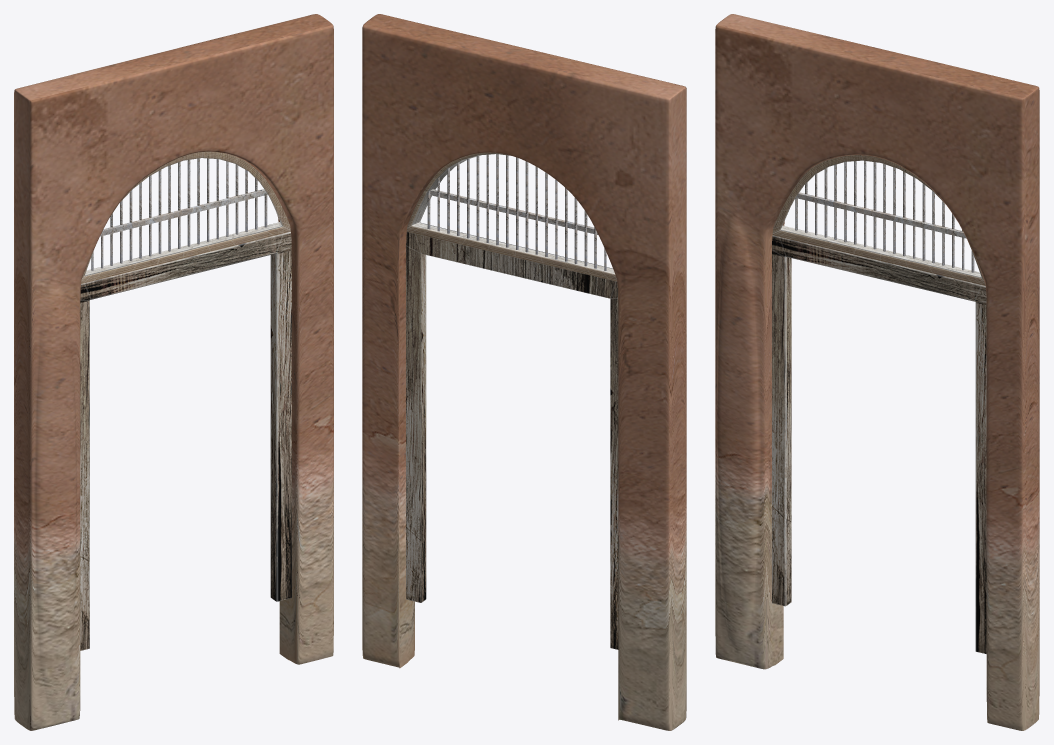
File: Marco.obj
3 renders of one model, left to right at view 1: azimuth 30°, elevation 25°; view 2: azimuth 150°, elevation 25°; view 3: azimuth 330°, elevation 25°, orthographic.
Parts seen in each view (by area): view 1: pCube3_Untitled; view 2: pCube3_Untitled; view 3: pCube3_Untitled.
Part boxes in pixels (x1=…): pCube3_Untitled: x1=14, y1=14, x2=333, y2=730; pCube3_Untitled: x1=362, y1=14, x2=686, y2=730; pCube3_Untitled: x1=715, y1=14, x2=1039, y2=730.
Size of the model in its own units: 0.5865 by 1.16 by 0.0784.
Materials: 3 (3 with a texture image).
